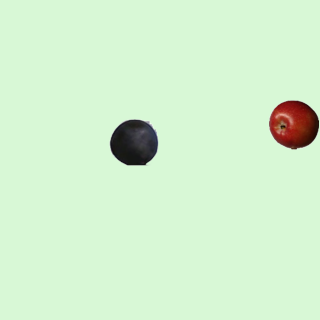Apple Braeburn: (268, 99, 318, 149)
Grape Blue: (108, 116, 158, 166)
